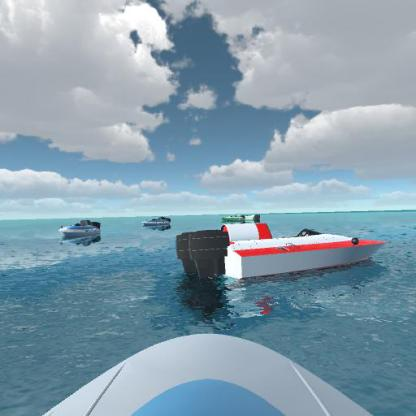usv0: (219, 212, 245, 224), (242, 210, 262, 223)
usv1: (57, 216, 104, 242), (140, 213, 176, 234)
usv3: (168, 213, 392, 292)
